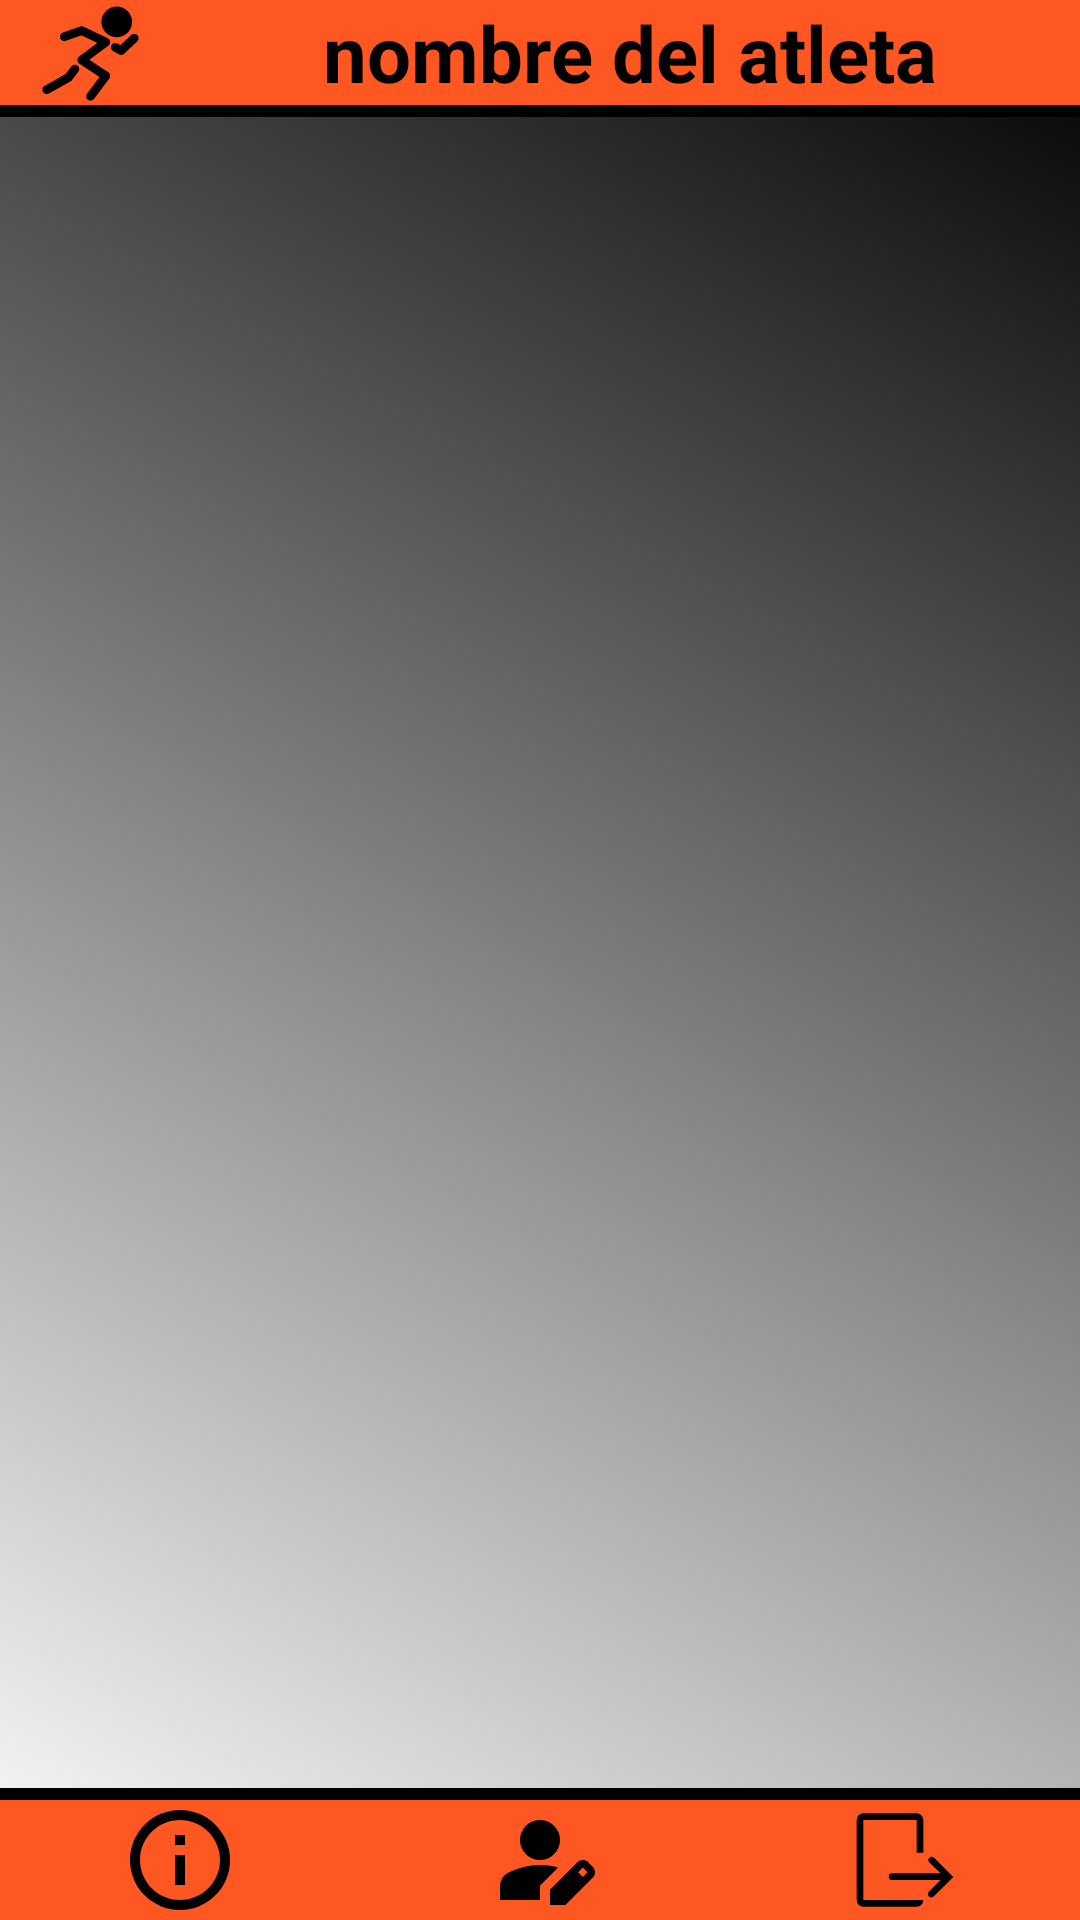

Where to tap for icons on this 1080px x 1920px app screen, as [x,y]:
athlete: [90,53]
person edit: [547,1862]
